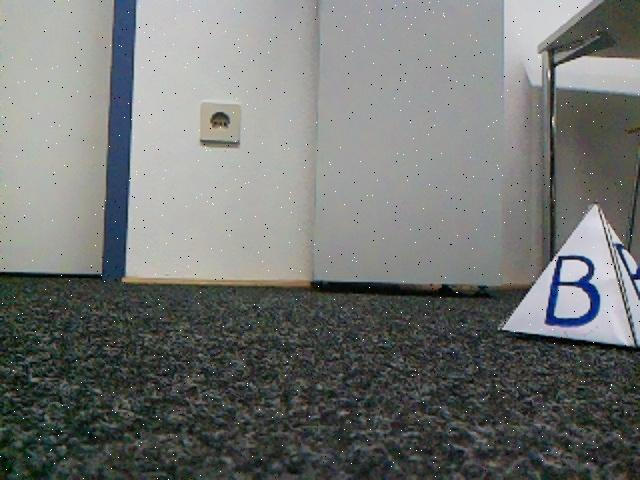B: (497, 202, 640, 347)
